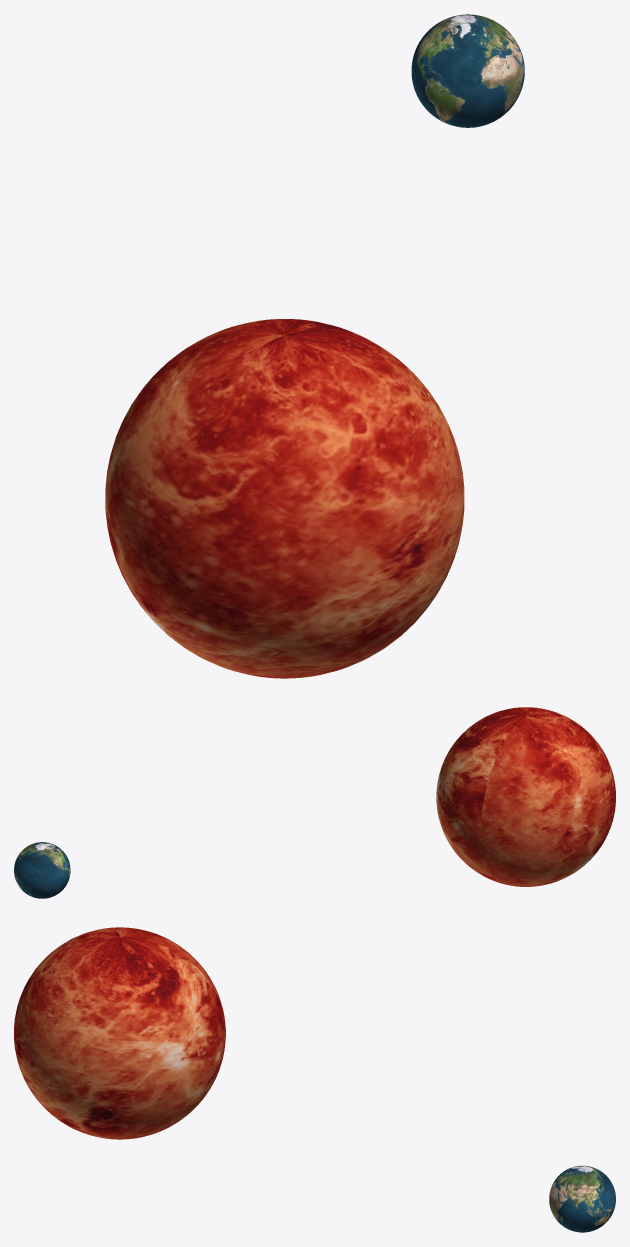
File: sun.FBX
The picture shows the model from 3 angles, top to bottom: view 1: azimuth 30°, elevation 25°; view 2: azimuth 150°, elevation 25°; view 3: azimuth 270°, elevation 25°; orthographic projection. The views are drawn at different scales.
Parts seen in each view (by area): view 1: Plane001, Plane002; view 2: Plane001, Plane002; view 3: Plane001, Plane002.
Boxes of the visible parts, x1,y1,x2,y2 form: Plane001: [105, 319, 464, 678]; Plane002: [411, 14, 524, 127]; Plane001: [436, 707, 615, 886]; Plane002: [14, 842, 70, 898]; Plane001: [14, 927, 225, 1139]; Plane002: [549, 1165, 615, 1232].
Bounding box in the file's own units: 159 × 63.66 × 181.
Materials: 2 (2 with a texture image).
